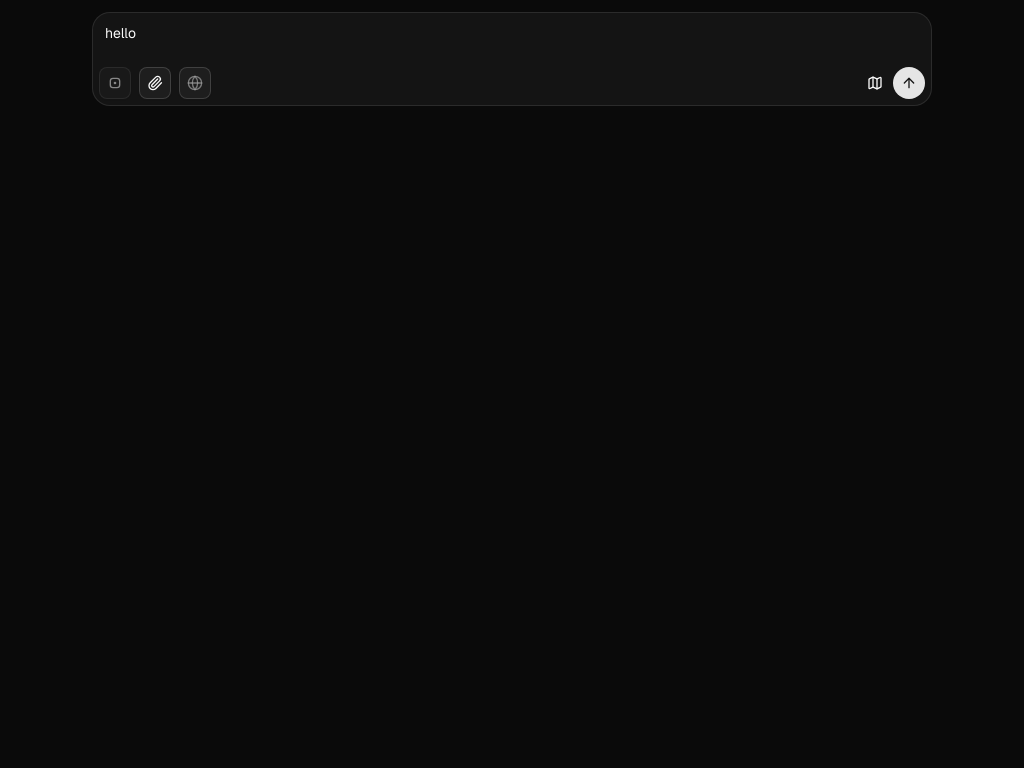
Scenario: Composer › offers three search modes and links to settings when the tool mode has no providers
The image size is (1024, 768).
Click the button named "Web search mode: Off" at (195, 83), box [179,67,211,99]
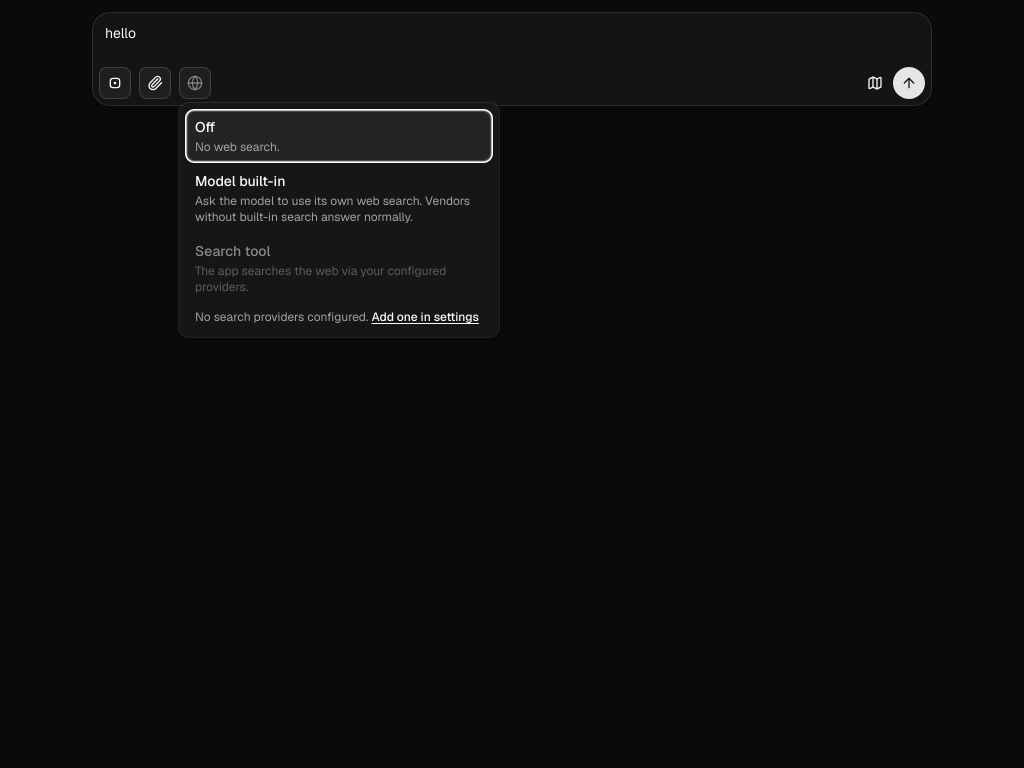
Expected: the button "Off No web search." is shown, [187,111,491,161]
Expected: the button "Model built-in" is enabled, [187,165,491,231]
Expected: the button "Search tool" is disabled, [187,235,491,301]
